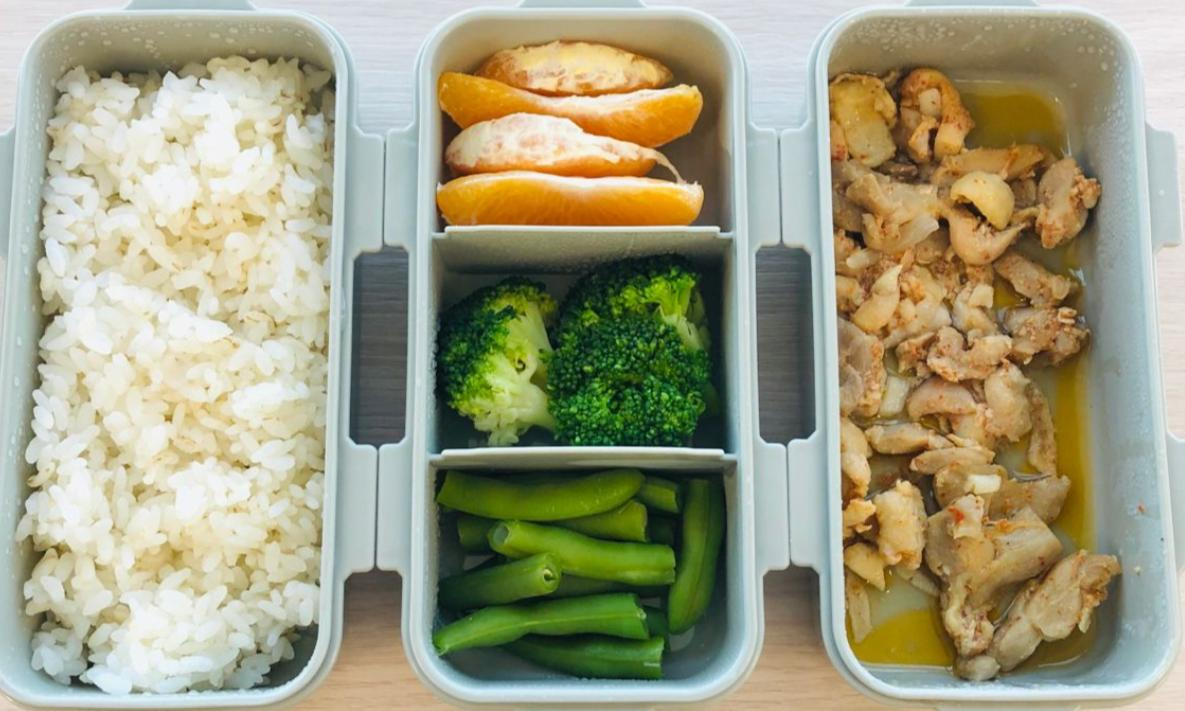buah_sayur_lainnya: (448, 482, 714, 661), (455, 287, 698, 420)
buah_sayur_vitA: (467, 62, 672, 214)
daging: (836, 164, 1080, 559)
makanan_berpati: (67, 82, 293, 643)
